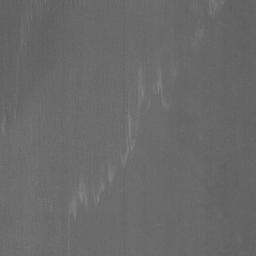Silk spot: (62, 165, 112, 224), (120, 88, 137, 138), (0, 105, 18, 136), (146, 80, 168, 104), (119, 152, 128, 186)
